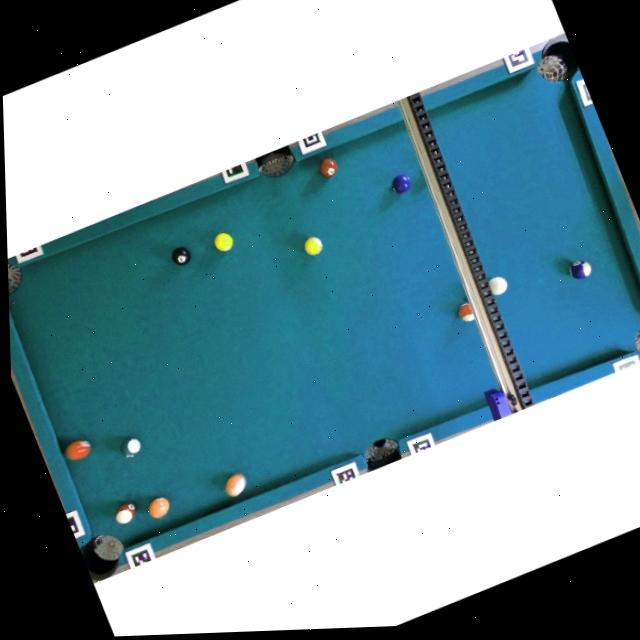cue ball: (487, 273, 510, 297)
other: (221, 470, 252, 500), (62, 436, 95, 464), (111, 500, 140, 527), (145, 494, 174, 521), (567, 257, 594, 283), (118, 435, 144, 460), (316, 155, 341, 180), (301, 233, 326, 258), (169, 244, 194, 268), (389, 172, 414, 196), (212, 230, 236, 254), (455, 302, 476, 324)
